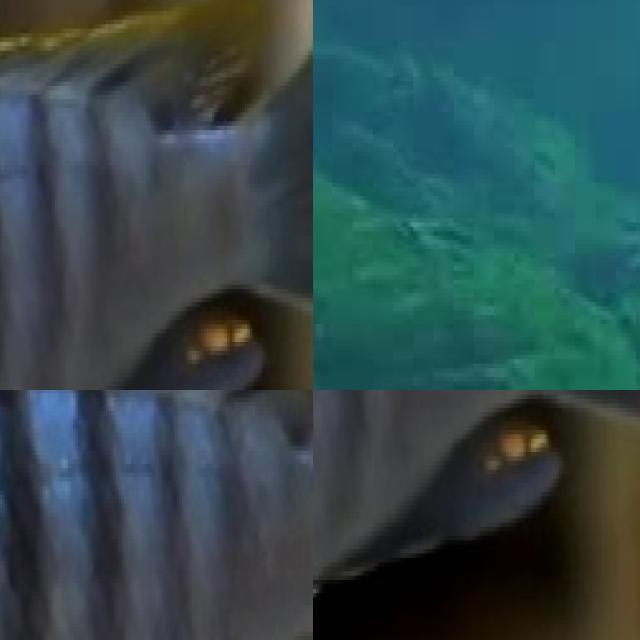fish: (0, 0, 313, 390), (313, 390, 640, 640)
